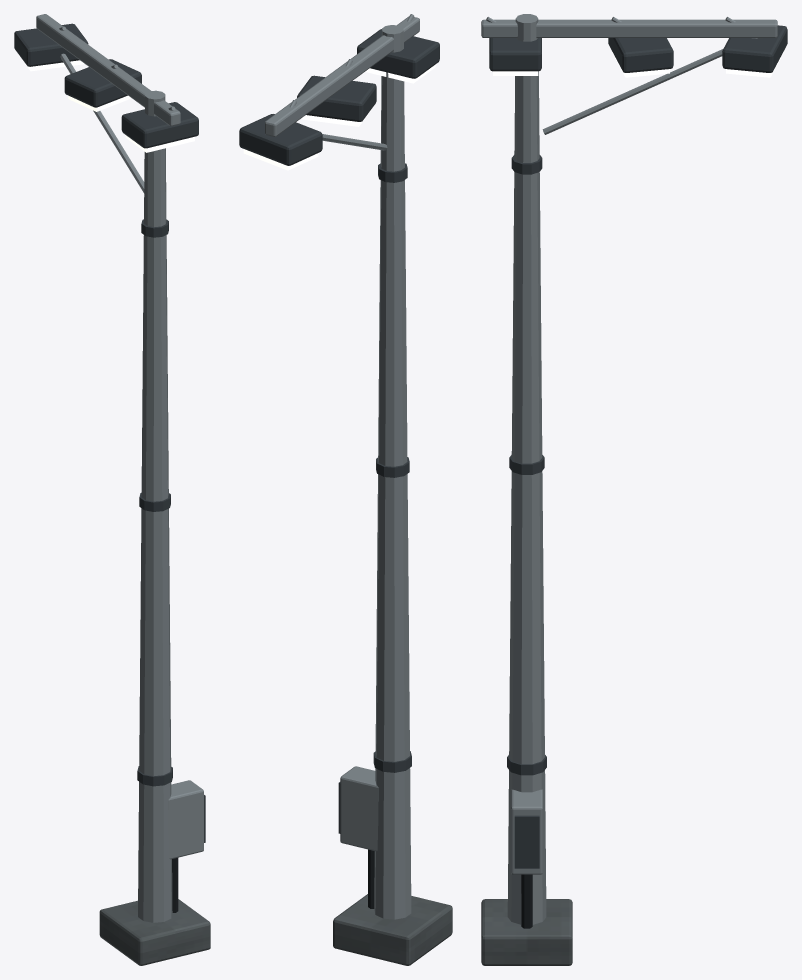
File: fac_lightmast.glb
The picture shows the model from 3 angles, left to right: view 1: azimuth 30°, elevation 25°; view 2: azimuth 150°, elevation 25°; view 3: azimuth 270°, elevation 25°; orthographic projection. The views are drawn at different scales.
Visible parts, largest first — view 1: FAC_LIGHTMAST; view 2: FAC_LIGHTMAST; view 3: FAC_LIGHTMAST.
Boxes of the visible parts, <box> form: FAC_LIGHTMAST: <box>14,14,210,965</box>; FAC_LIGHTMAST: <box>239,14,452,965</box>; FAC_LIGHTMAST: <box>481,14,787,965</box>.
Bounding box in the file's own units: 0.895 × 9.07 × 2.69.
Materials: 5 (1 with a texture image).
